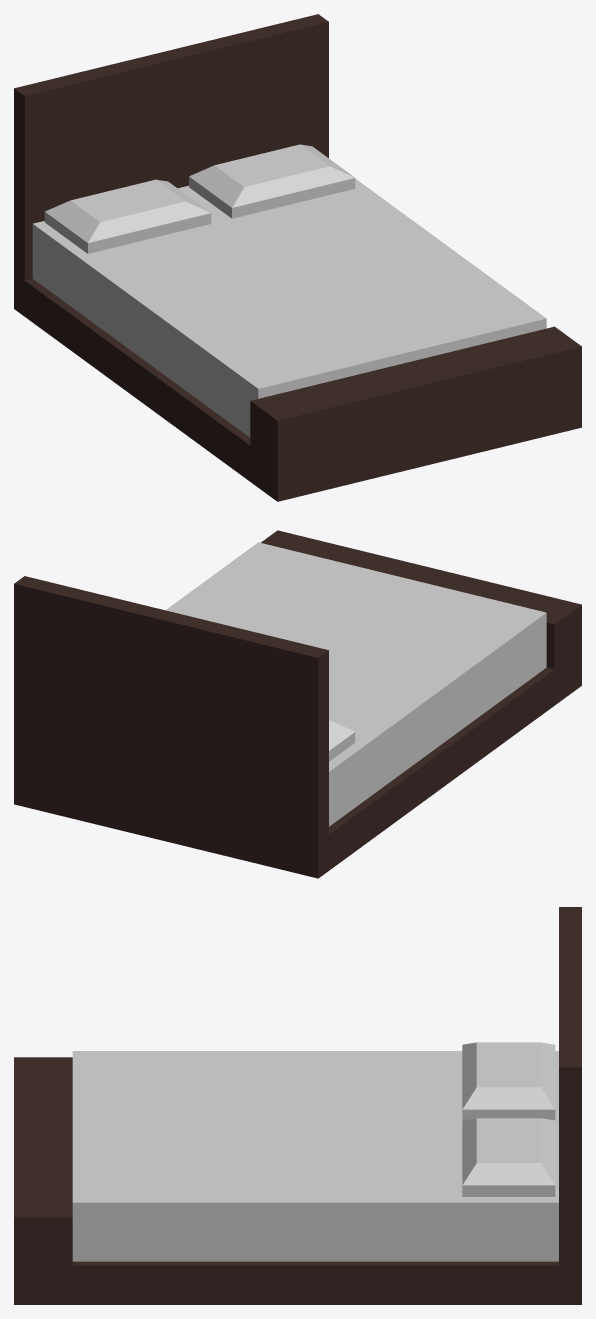
File: Bed1.fbx
The picture shows the model from 3 angles, top to bottom: view 1: azimuth 30°, elevation 25°; view 2: azimuth 150°, elevation 25°; view 3: azimuth 270°, elevation 25°; orthographic projection. The views are drawn at different scales.
Parts seen in each view (by area): view 1: Cube; view 2: Cube; view 3: Cube.
Boxes of the visible parts, box(x1,y1,x2,y2) form: Cube: box(14, 14, 581, 501); Cube: box(14, 530, 581, 878); Cube: box(14, 907, 581, 1304).
Bounding box in the file's own units: 2.4 × 1.66 × 3.6.
